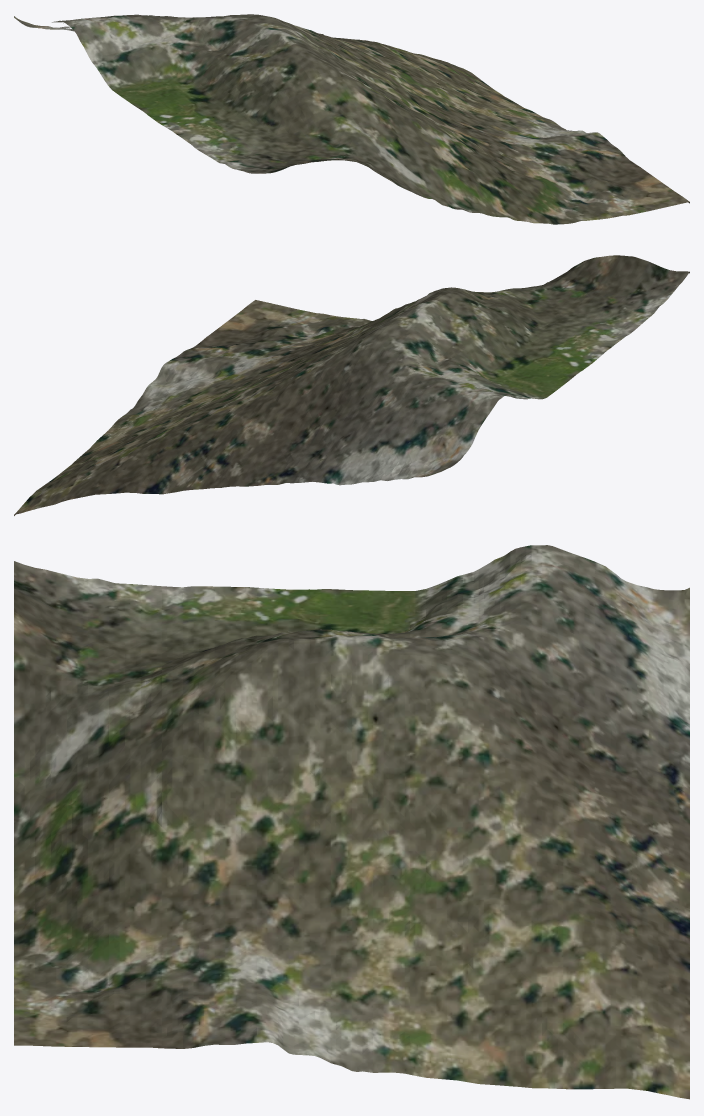
The picture shows the model from 3 angles, top to bottom: view 1: azimuth 30°, elevation 25°; view 2: azimuth 150°, elevation 25°; view 3: azimuth 270°, elevation 25°; orthographic projection. The views are drawn at different scales.
Size of the model in its own units: 250 by 105 by 241.
1 material, 1 textured.
